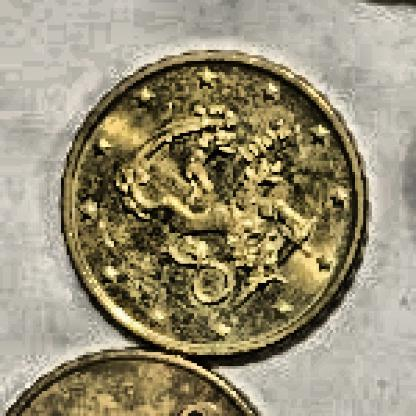coin: (58, 48, 369, 367)
